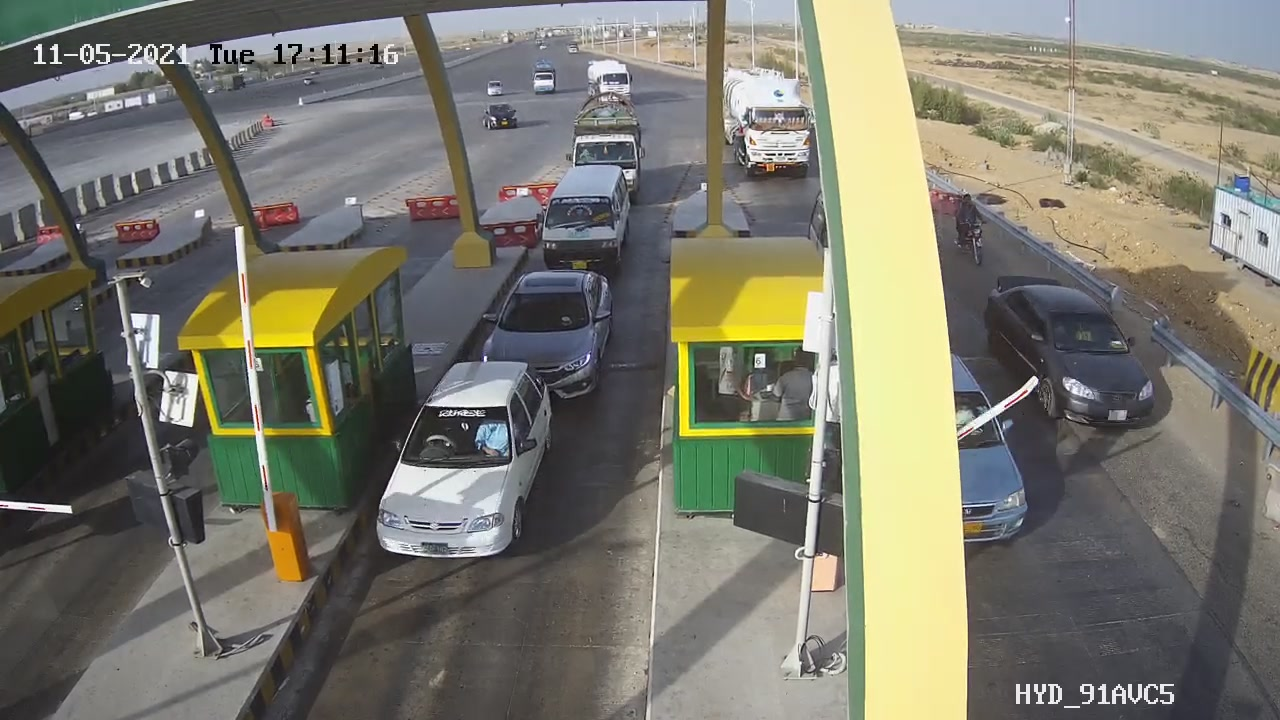F1: (357, 346, 570, 594), (468, 249, 631, 425)
